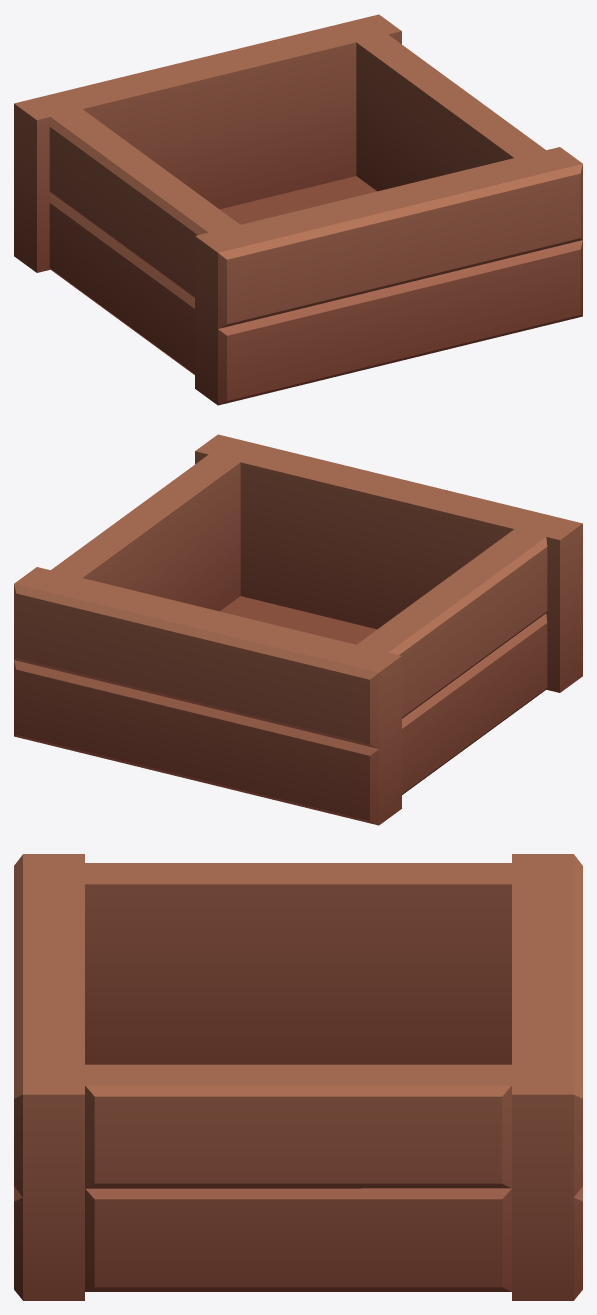
File: kay-crate.glb
3 renders of one model, top to bottom at view 1: azimuth 30°, elevation 25°; view 2: azimuth 150°, elevation 25°; view 3: azimuth 270°, elevation 25°, orthographic. The views are drawn at different scales.
Visible parts, largest first — view 1: crate; view 2: crate; view 3: crate.
Part boxes in pixels (<box>): crate: <box>14,14,582,405</box>; crate: <box>14,434,582,825</box>; crate: <box>14,854,582,1300</box>.
Size of the model in its own units: 0.6 by 0.24 by 0.6.
1 material, 1 textured.
